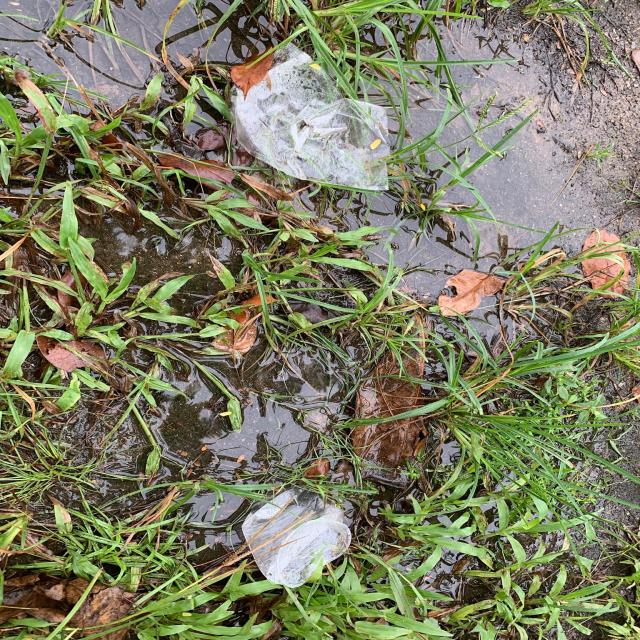litter: (231, 42, 389, 190), (239, 487, 349, 588)
